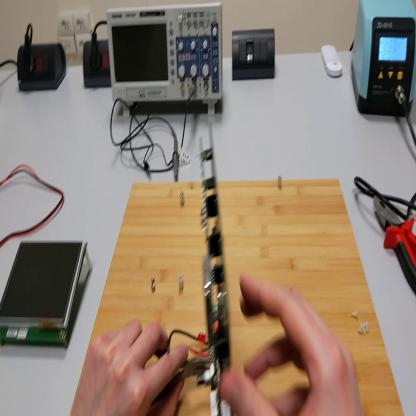hand: (220, 273, 367, 416), (73, 322, 188, 416)
low voltage board: (168, 121, 238, 416)
oscilloscope: (108, 2, 226, 119)
oscilloscope probe tip: (175, 126, 181, 179)
pliers: (372, 194, 416, 295)
socket: (17, 46, 69, 94), (83, 41, 113, 91)
welder station: (351, 3, 416, 120)
working area: (78, 180, 405, 415)
